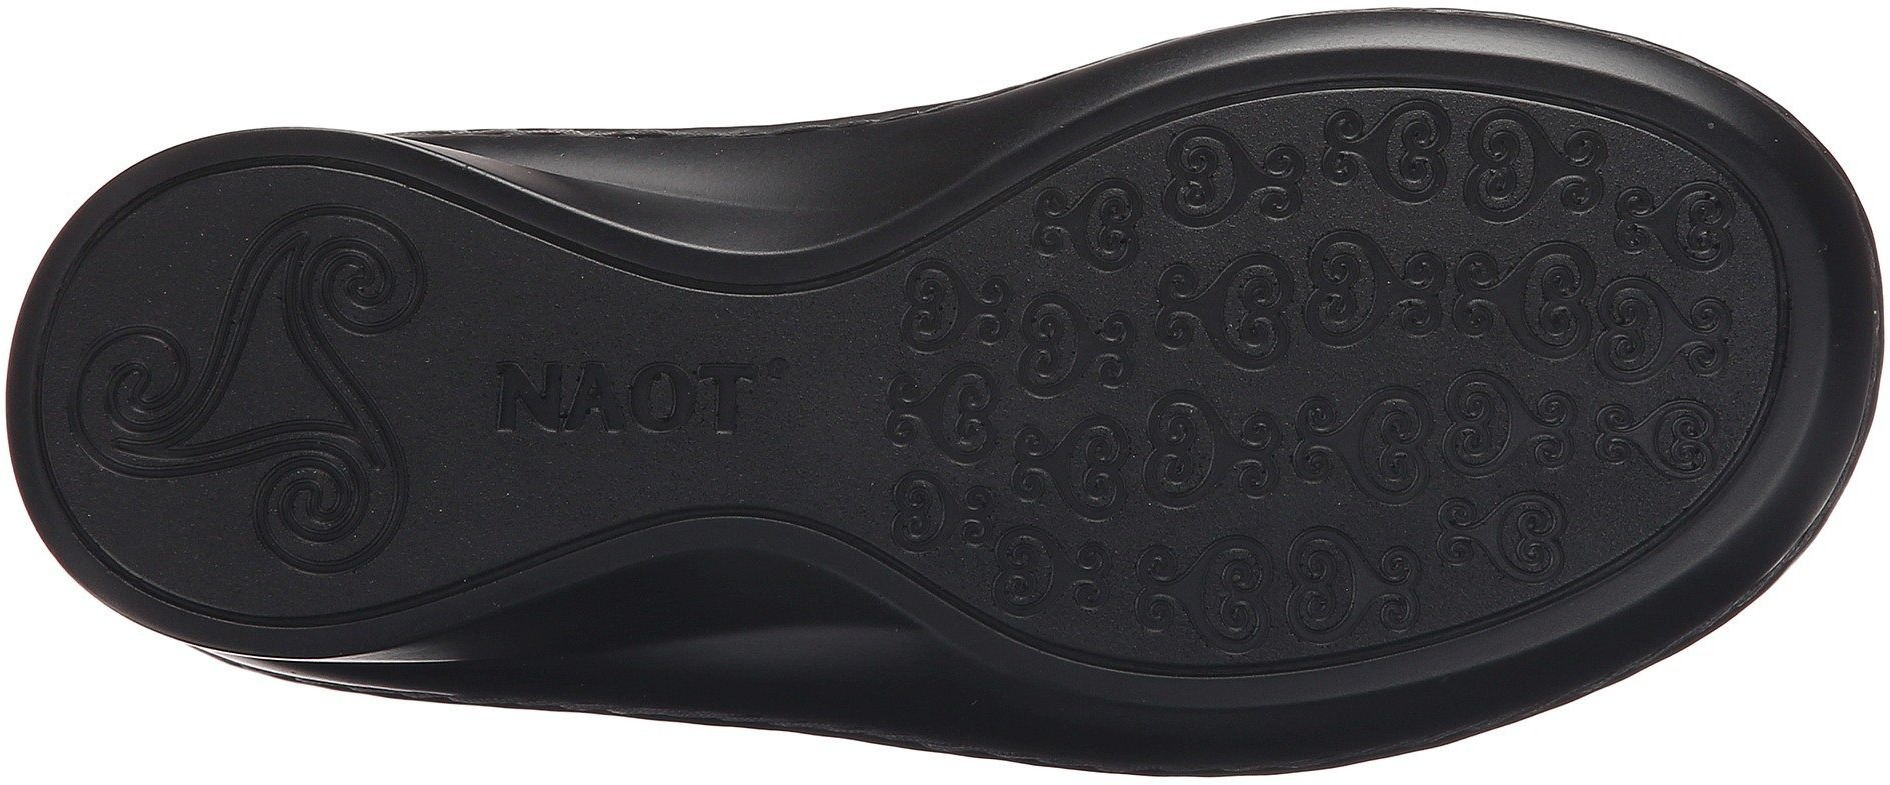other: (1284, 123, 1700, 514), (903, 235, 1301, 588)
star: (107, 234, 421, 544)
text: (622, 333, 761, 458), (492, 329, 627, 456)
triangle: (127, 219, 392, 465)
